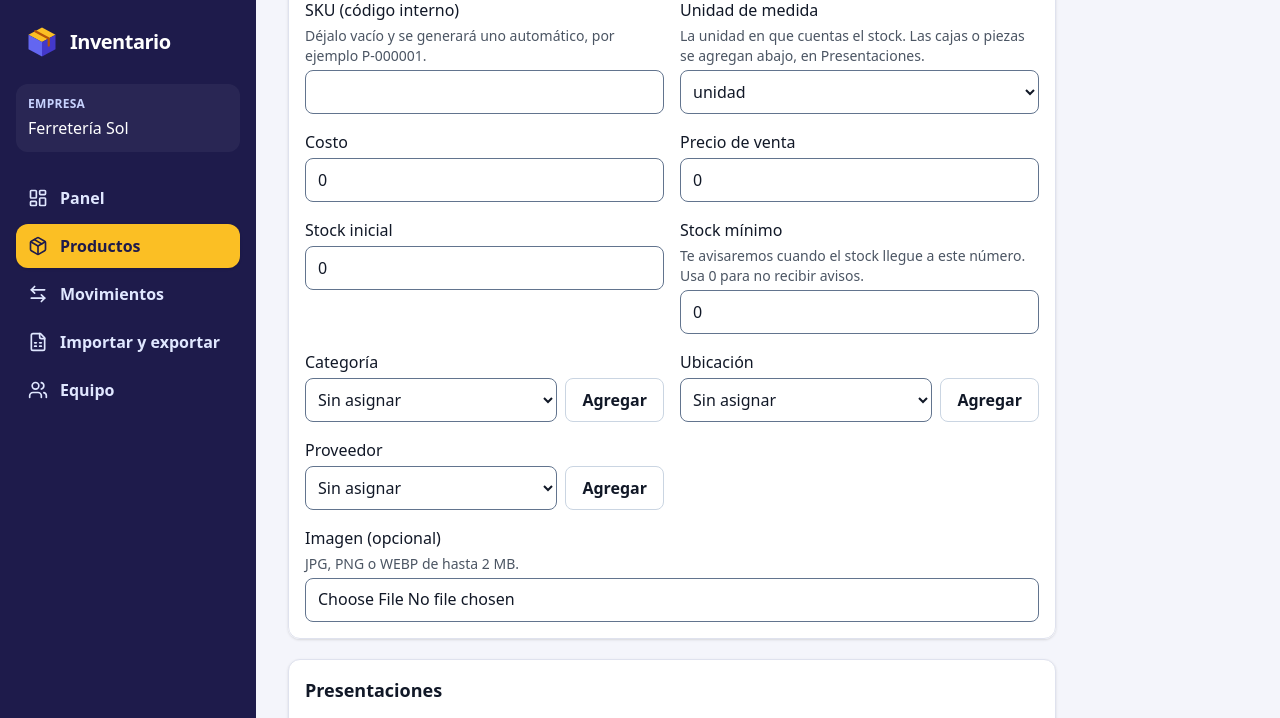
Formulario de producto › crea una categoría sin salir del formulario
The image size is (1280, 718).
(page scrolled)
Click the button with aria-label "Agregar: Nueva categoría". click: point(615, 400)
box: [565,378,664,422]
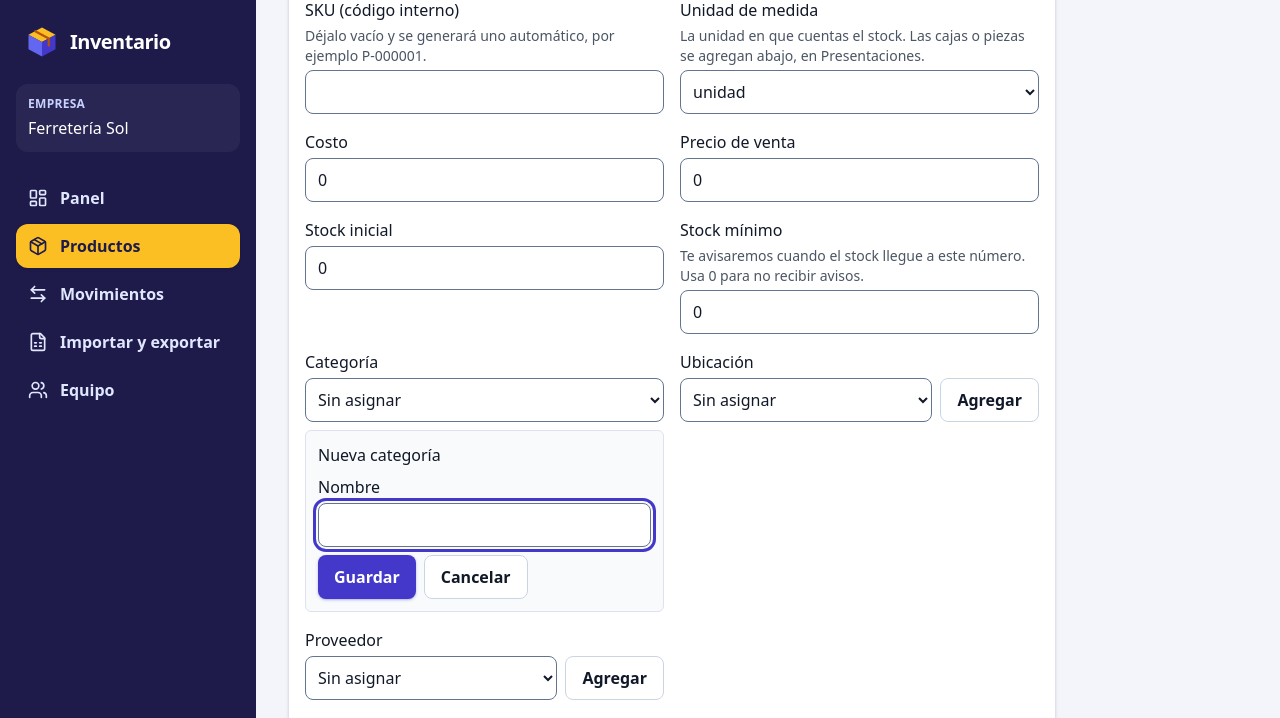
Type "Pinturas" into the field labelled "Nombre". click: point(484, 525)
box: [318,503,651,547]
Then press Enter
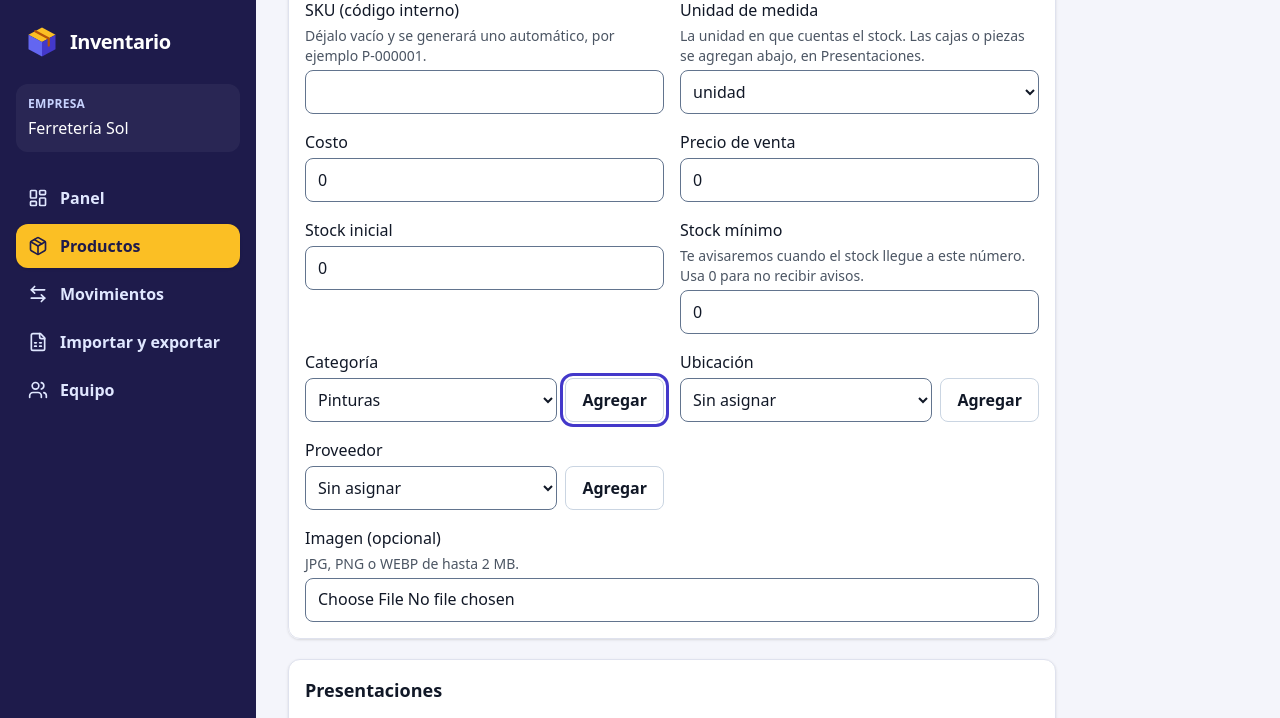
expect the dropdown labelled "Categoría" shows "Pinturas": met, box [305,378,557,422]
